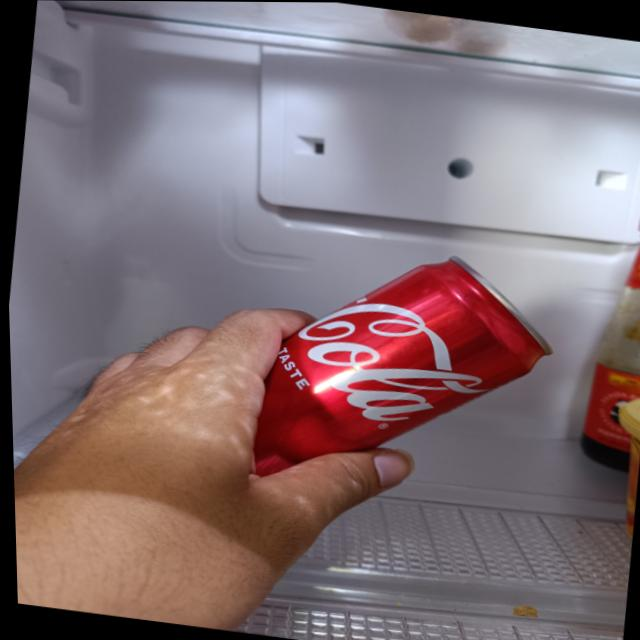coke: (193, 223, 562, 518)
